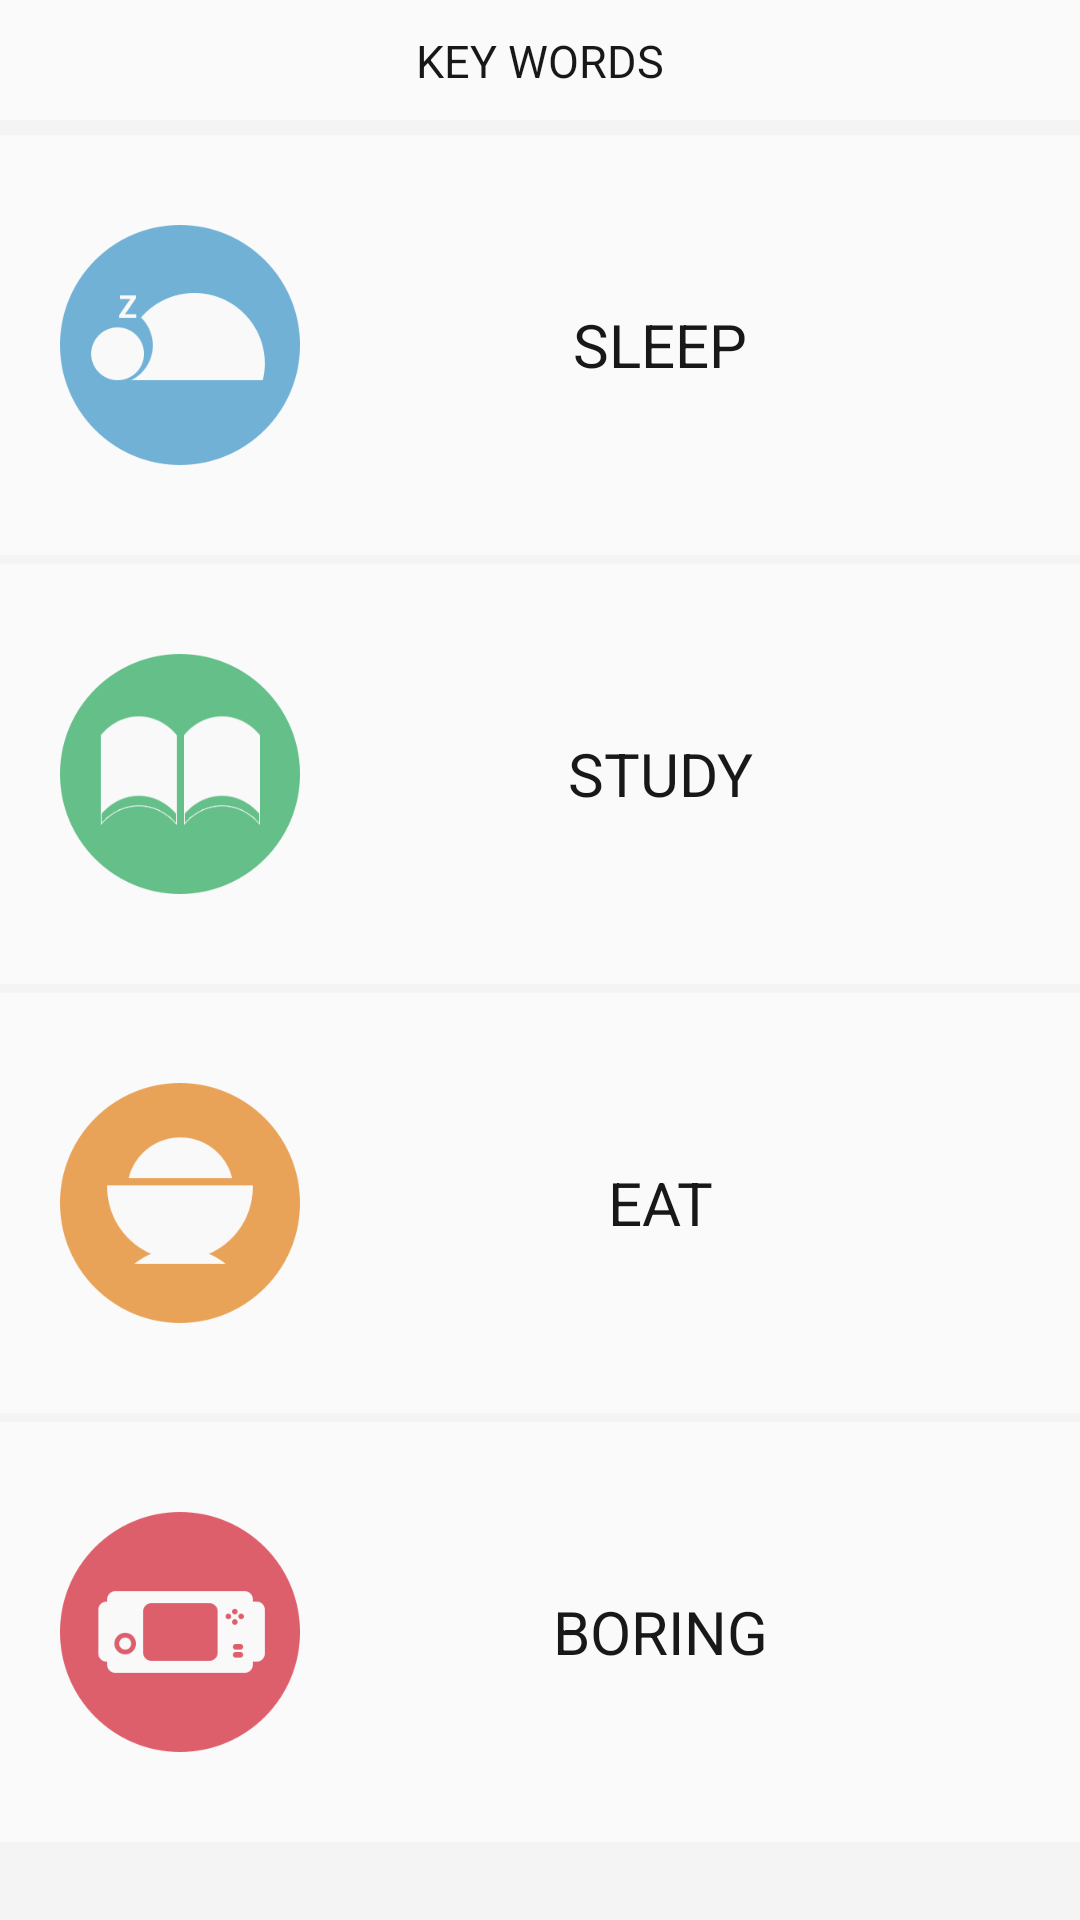

Locate icon controls on the screen. Image size 1080x1920, boxes as (x1, y1, x2, y2).
boring: (60, 1512, 300, 1752)
eat: (60, 1083, 300, 1323)
sleep: (60, 225, 300, 465)
study: (60, 654, 300, 894)
